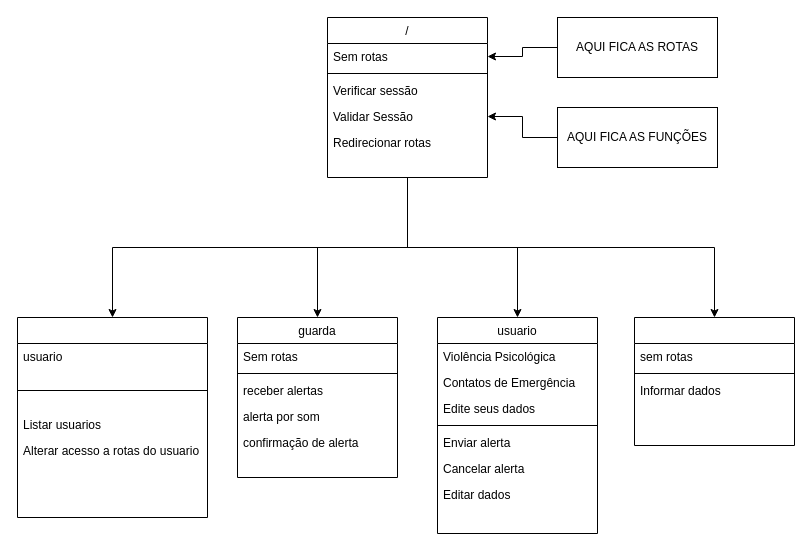
Image size: 812x551. Some labels were removed from this diagram. The shapes that lost their labels are listed below. From the top down, each one's box as (x1, y1, x2, y2) in pixels, then its label:
(634, 316, 794, 446): visitante
(16, 316, 208, 518): admin
